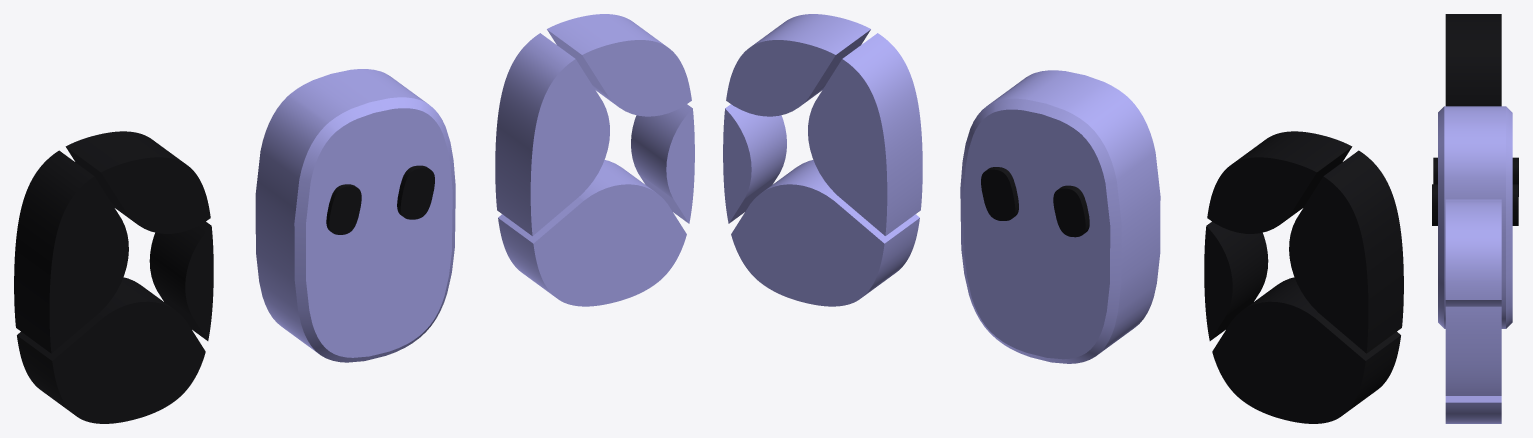
The picture shows the model from 3 angles, left to right: view 1: azimuth 30°, elevation 25°; view 2: azimuth 150°, elevation 25°; view 3: azimuth 270°, elevation 25°; orthographic projection. The views are drawn at different scales.
Parts seen in each view (by area): view 1: Face, Curve.002, Curve.003; view 2: Face, Curve.002, Curve.003; view 3: Curve.003, Face, Curve.002.
Part boxes in pixels (x1,y1,x2,y2): Face: [255, 69, 455, 362]; Curve.002: [14, 131, 213, 423]; Curve.003: [495, 14, 694, 306]; Face: [960, 70, 1160, 363]; Curve.002: [1204, 131, 1403, 423]; Curve.003: [723, 14, 922, 306]; Curve.003: [1445, 199, 1501, 423]; Face: [1432, 106, 1518, 328]; Curve.002: [1445, 14, 1501, 106].
Size of the model in its own units: 8.29 by 3.2 by 1.22.
